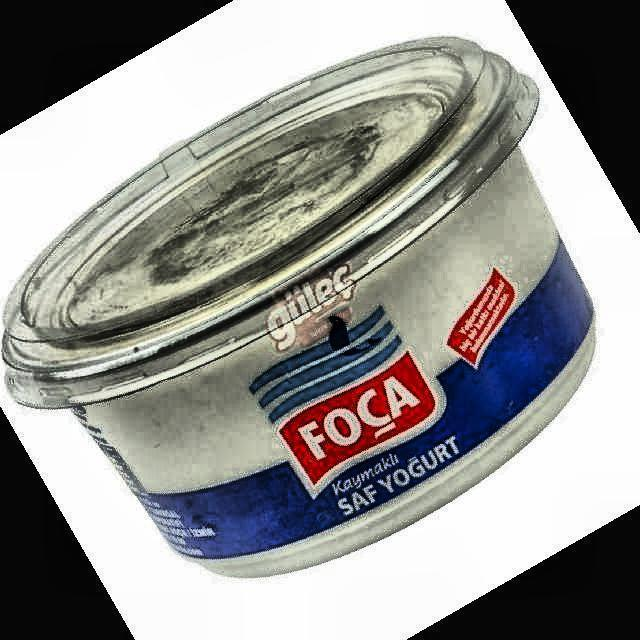plastic: (2, 38, 595, 576)
